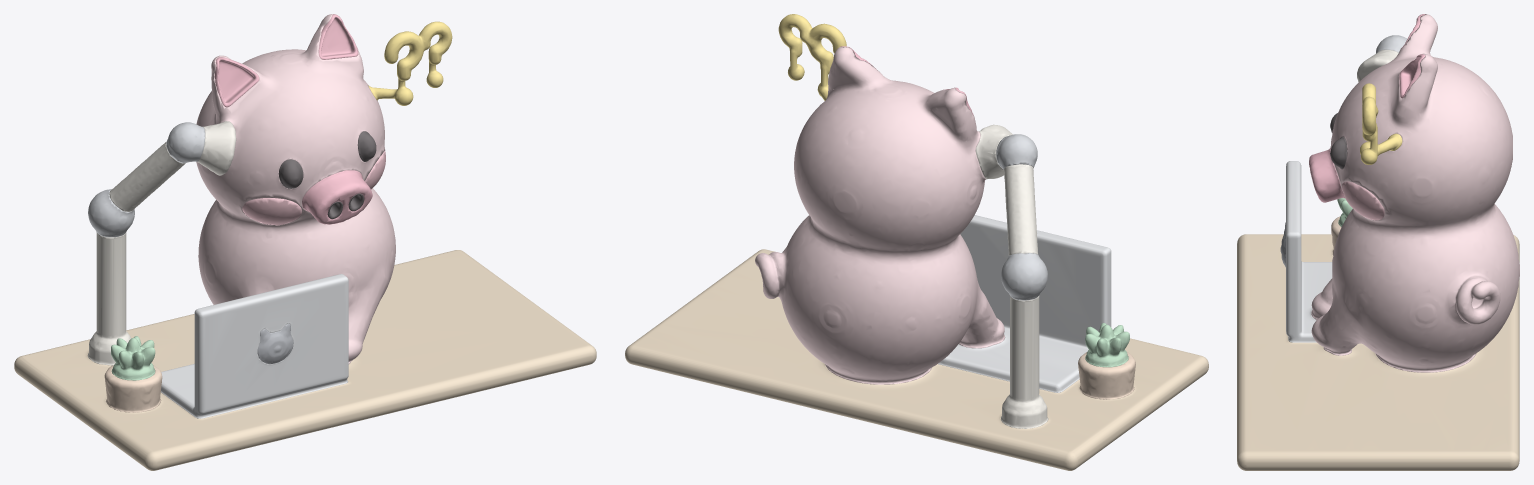
The model's file is figure-pig.glb.
3 views of the same model, side by side, from view 1: azimuth 30°, elevation 25°; view 2: azimuth 150°, elevation 25°; view 3: azimuth 270°, elevation 25° (orthographic).
Parts seen in each view (by area): view 1: 12_wood, 08_pink, 09_laptop, 10_lampw, 03_snout, 05_yellow, 07_metal, 11_pot, 04_blush, 06_leaf, 01_black, 02_logo; view 2: 08_pink, 12_wood, 09_laptop, 10_lampw, 07_metal, 05_yellow, 11_pot, 06_leaf; view 3: 08_pink, 12_wood, 09_laptop, 03_snout, 05_yellow, 04_blush, 10_lampw, 01_black, 07_metal.
Part boxes in pixels (x1,y1,x2,y2): 12_wood: [14, 250, 596, 470]; 08_pink: [196, 14, 395, 364]; 09_laptop: [161, 274, 348, 418]; 10_lampw: [87, 121, 236, 365]; 03_snout: [214, 14, 372, 224]; 05_yellow: [368, 21, 452, 105]; 07_metal: [88, 122, 205, 237]; 11_pot: [104, 365, 162, 412]; 04_blush: [242, 150, 385, 225]; 06_leaf: [111, 336, 155, 380]; 01_black: [278, 131, 376, 219]; 02_logo: [257, 323, 293, 363]; 08_pink: [755, 47, 1005, 384]; 12_wood: [625, 249, 1208, 470]; 09_laptop: [938, 215, 1111, 392]; 10_lampw: [975, 124, 1048, 428]; 07_metal: [996, 134, 1047, 300]; 05_yellow: [778, 14, 846, 100]; 11_pot: [1078, 352, 1135, 399]; 06_leaf: [1085, 323, 1129, 367]; 08_pink: [1311, 14, 1519, 372]; 12_wood: [1237, 234, 1519, 470]; 09_laptop: [1286, 161, 1332, 342]; 03_snout: [1309, 14, 1425, 202]; 05_yellow: [1360, 83, 1402, 164]; 04_blush: [1342, 181, 1384, 220]; 10_lampw: [1357, 49, 1398, 82]; 01_black: [1330, 113, 1347, 168]; 07_metal: [1376, 35, 1407, 53].
Size of the model in its own units: 0.5985 by 0.414 by 0.3194.
Materials: 2 (2 with a texture image).
